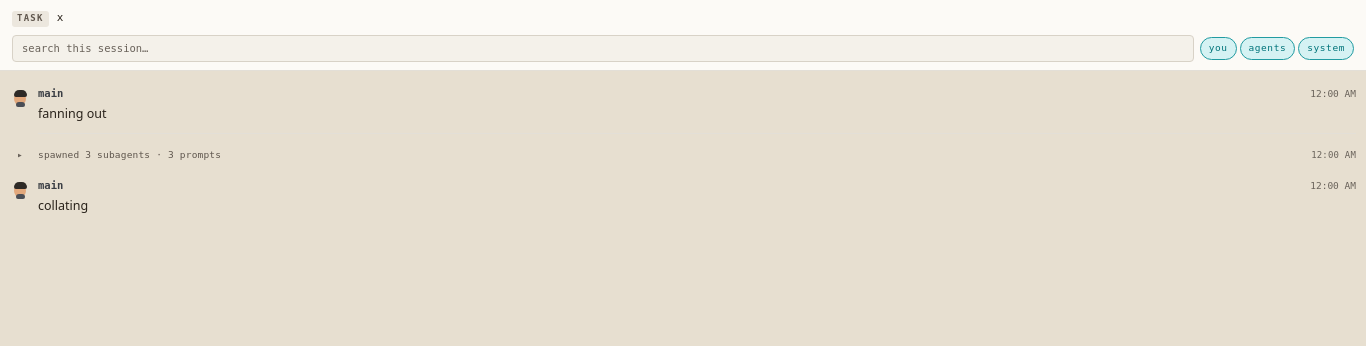
it: the feed folds runs of system lines › draws a run as one closed line that opens onto every line in it
This screenshot has width=1366, height=346.
Click the button with class "sys-sum": (130, 154) left=10, top=143, right=1356, bottom=167
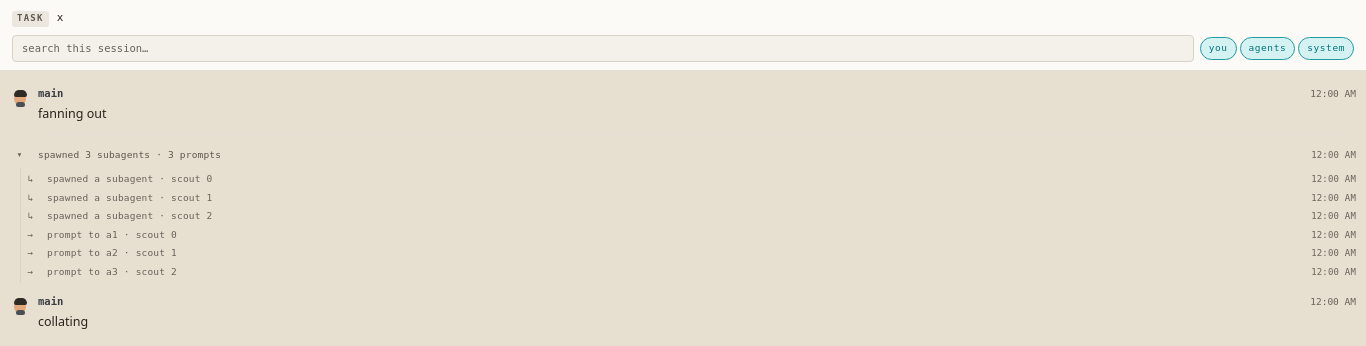
Check: the number of list items with class "sys-line" is 6, box left=28, top=173, right=1356, bottom=184; left=28, top=192, right=1356, bottom=203; left=28, top=210, right=1356, bottom=221; left=28, top=229, right=1356, bottom=240; left=28, top=247, right=1356, bottom=258; left=28, top=266, right=1356, bottom=277
